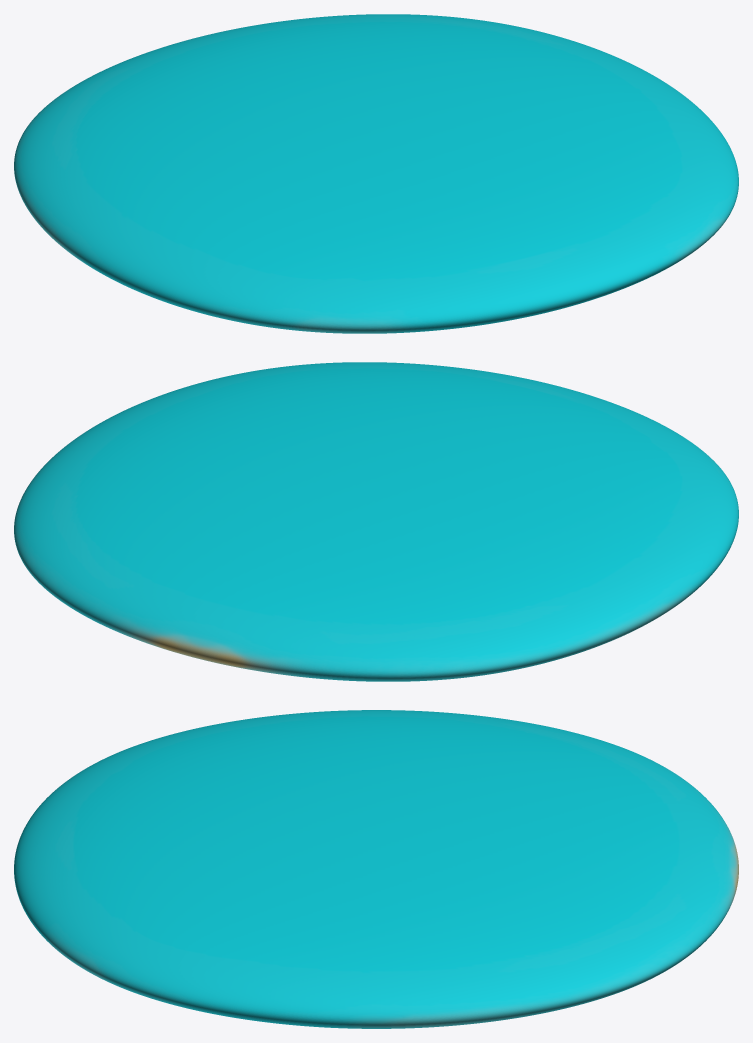
The model's file is frogland.glb.
The picture shows the model from 3 angles, top to bottom: view 1: azimuth 30°, elevation 25°; view 2: azimuth 150°, elevation 25°; view 3: azimuth 270°, elevation 25°; orthographic projection.
Visible parts, largest first — view 1: Quad Sphere; view 2: Quad Sphere; view 3: Quad Sphere.
Boxes of the visible parts, x1,y1,x2,y2 form: Quad Sphere: [14, 14, 738, 333]; Quad Sphere: [14, 362, 738, 681]; Quad Sphere: [14, 710, 738, 1028].
Size of the model in its own units: 8.59 by 1.13 by 8.64.
